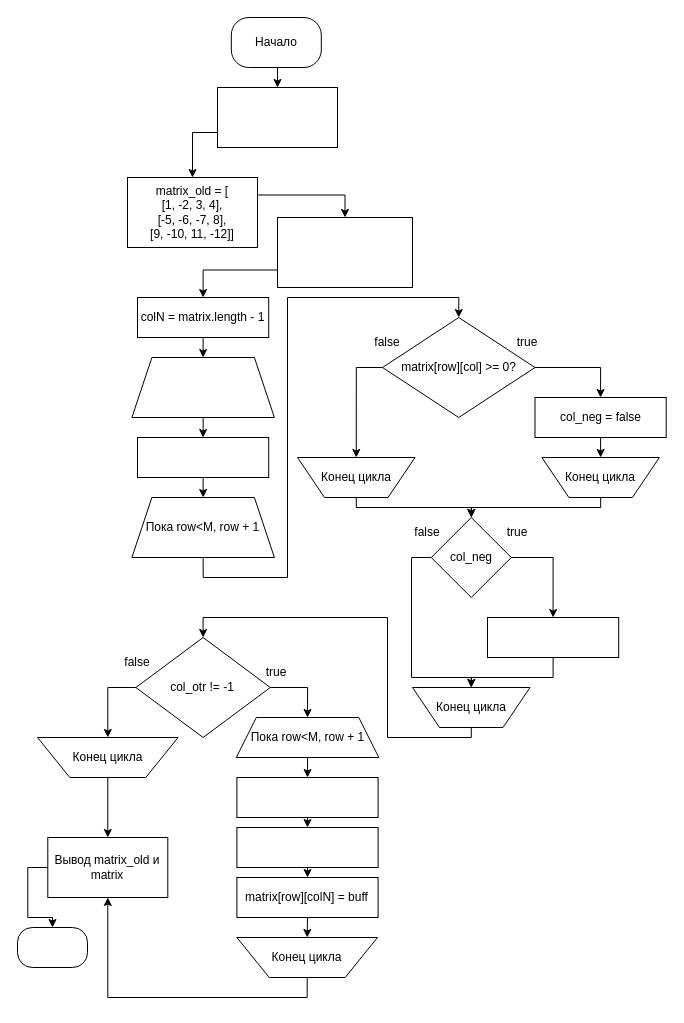
Image size: 684x1023. Some labels were removed from this diagram. The shapes that lost their labels are listed below. From the top down, each one's centre as x and y in pixels, then its label:
At (x=277, y=117): "col_otr = -1; N = 4; M = 3;".
At (x=344, y=252): "matrix = [ [1, -2, 3, 4], [-5, -6, -7, 8], [9, -10, 11, -12] ]".
At (x=202, y=387): "Пока col<N, col + 1".
At (x=202, y=457): "col_neg = true".
At (x=552, y=637): "col_otr = col".
At (x=307, y=797): "buff = matrix[row][col_otr]".
At (x=307, y=847): "matrix[row][col_otr] = matrix[row][colN]".
At (x=52, y=947): "Конец".
